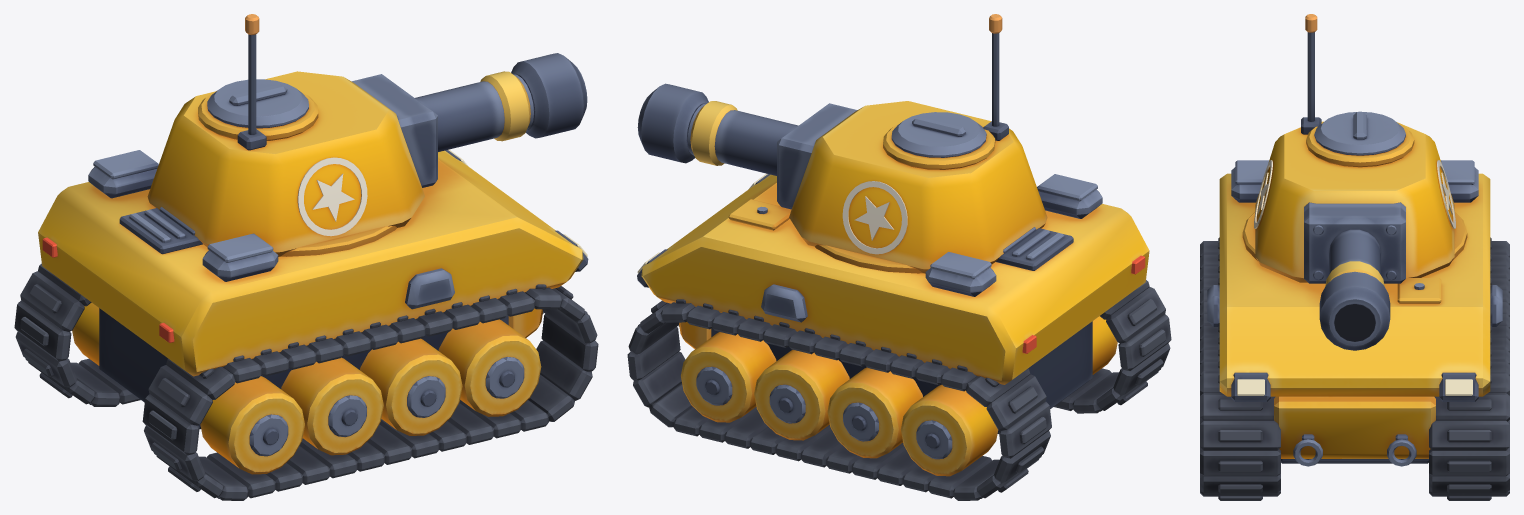
Rendered from tank_t1.glb.
The picture shows the model from 3 angles, left to right: view 1: azimuth 30°, elevation 25°; view 2: azimuth 150°, elevation 25°; view 3: azimuth 270°, elevation 25°; orthographic projection. The views are drawn at different scales.
Visible parts, largest first — view 1: hull, turret; view 2: hull, turret; view 3: hull, turret.
Part boxes in pixels (bbox=[...]): hull: bbox=[14, 149, 598, 500]; turret: bbox=[147, 14, 587, 256]; hull: bbox=[627, 173, 1171, 500]; turret: bbox=[637, 14, 1047, 273]; hull: bbox=[1200, 160, 1509, 500]; turret: bbox=[1242, 14, 1467, 350].
Size of the model in its own units: 4.74 by 4.05 by 2.98.
Materials: 2 (2 with a texture image).
